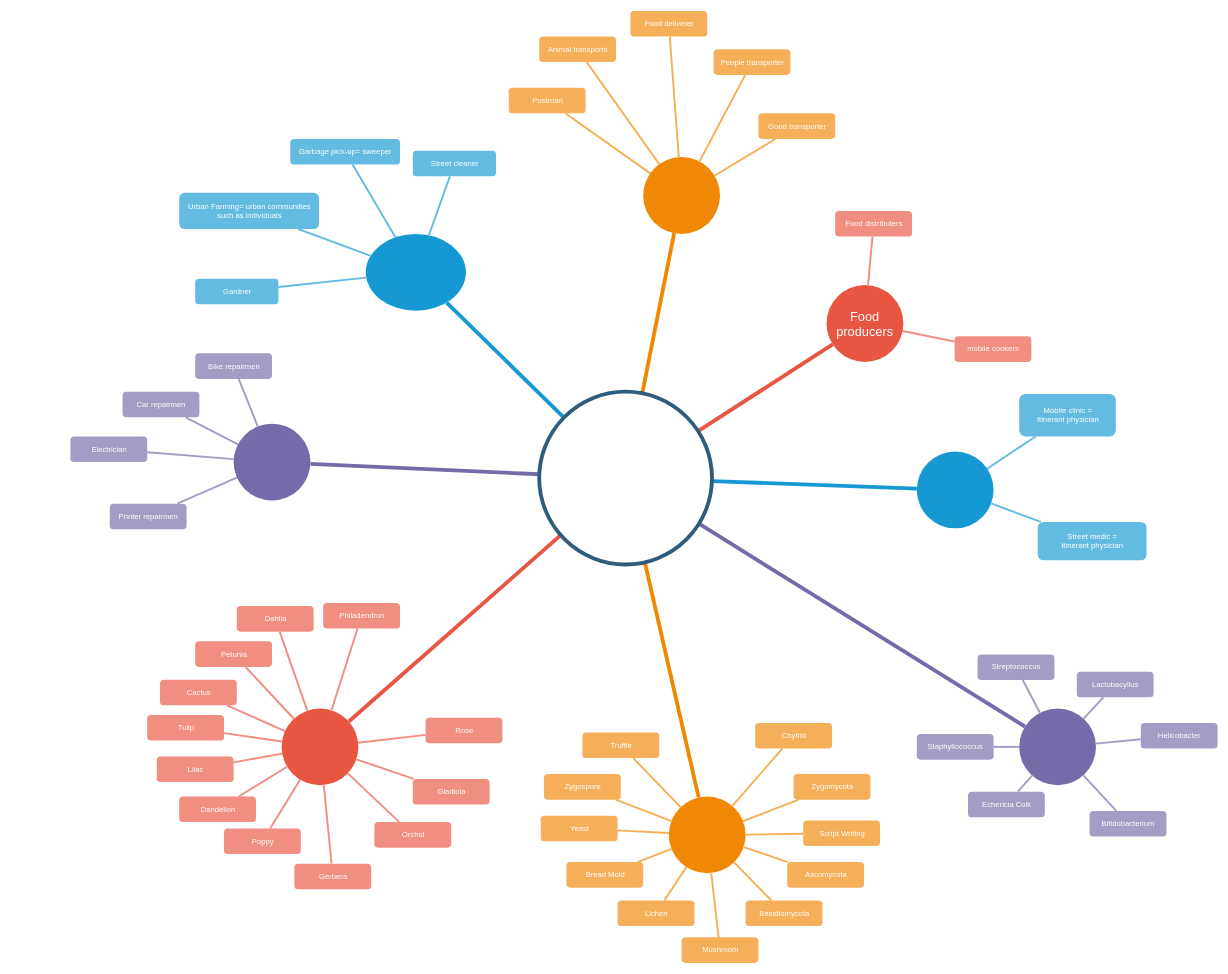
This 1228x974 diagram has some shape labels left out. Here are the shapes that lost their labels. From the top down, the centre of each, then its label:
At (681,195): "Transporters".
At (415,272): "Environmental activists".
At (271,461): "repairmen".
At (625,477): "Stakeholders of XYZ cargo ADD-ONS".
At (954,489): "Health care".
At (319,746): "Flower".
At (1057,746): "Bacteria".
At (706,834): "Fungi".
